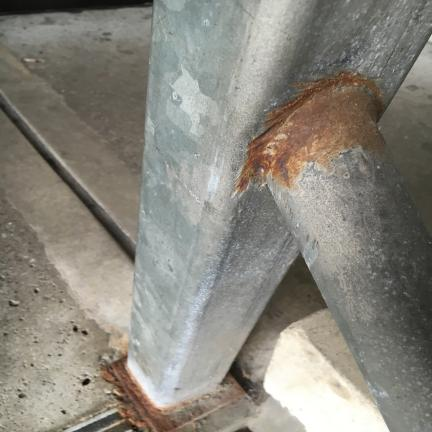karat: (235, 76, 387, 223)
